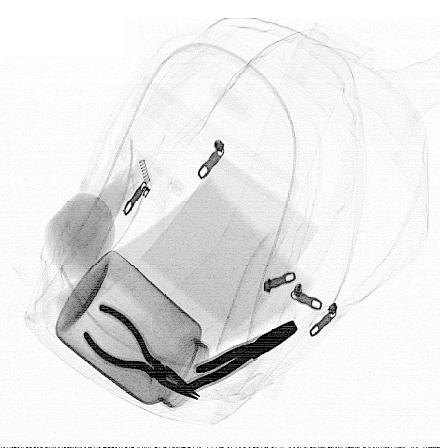Pliers: (82, 303, 200, 402), (183, 318, 299, 398)
